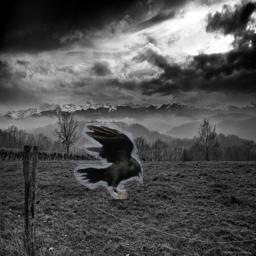Crow: (74, 123, 143, 199)
